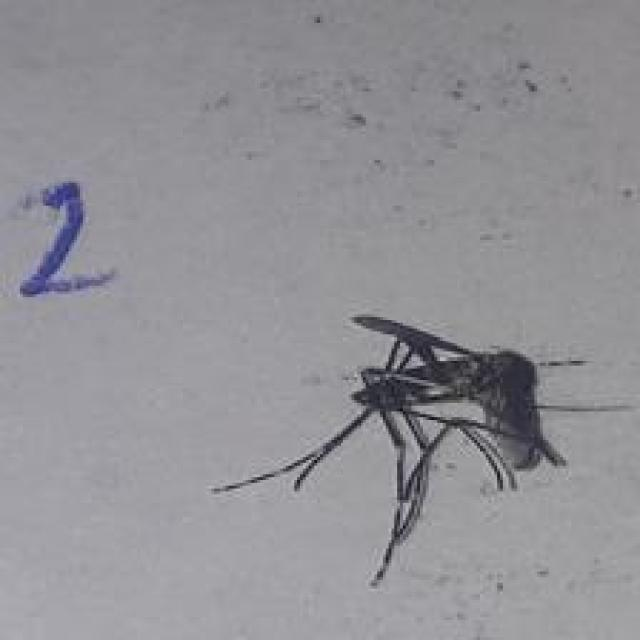Aedes albopictus: (209, 312, 637, 588)
